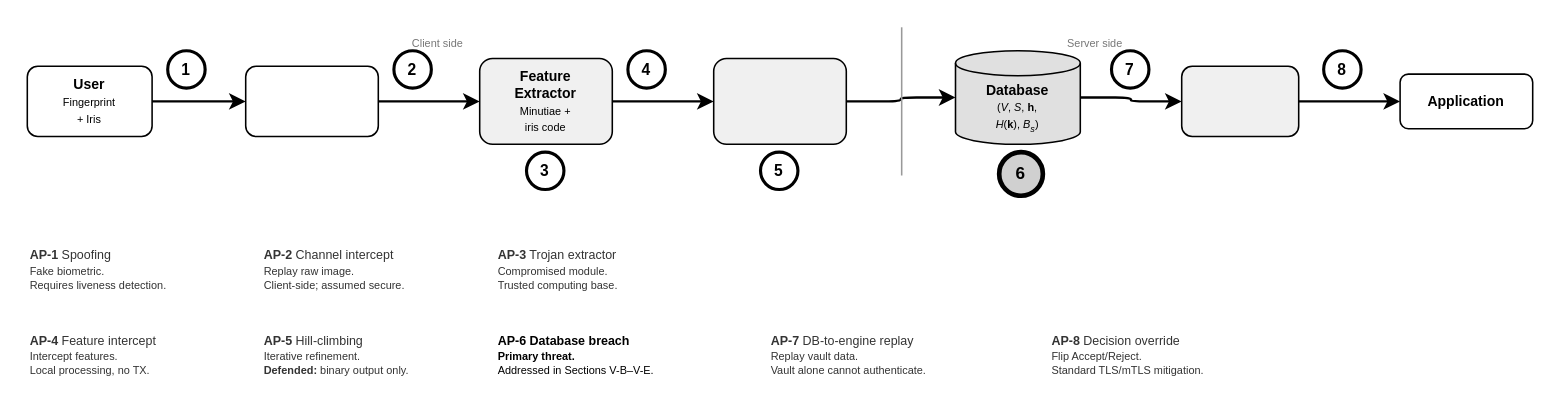
The diagram is 1560 pixels wide and 413 high, and some of its shapes have lost their labels. Here are the shapes that lost their labels. From the top down, the centre of each, then its label:
the point at 311,100: Sensor FP scanner + NIR camera
the point at 779,100: IBFV Engine Vault create/ unlock
the point at 1239,100: Decision Accept/ Reject
